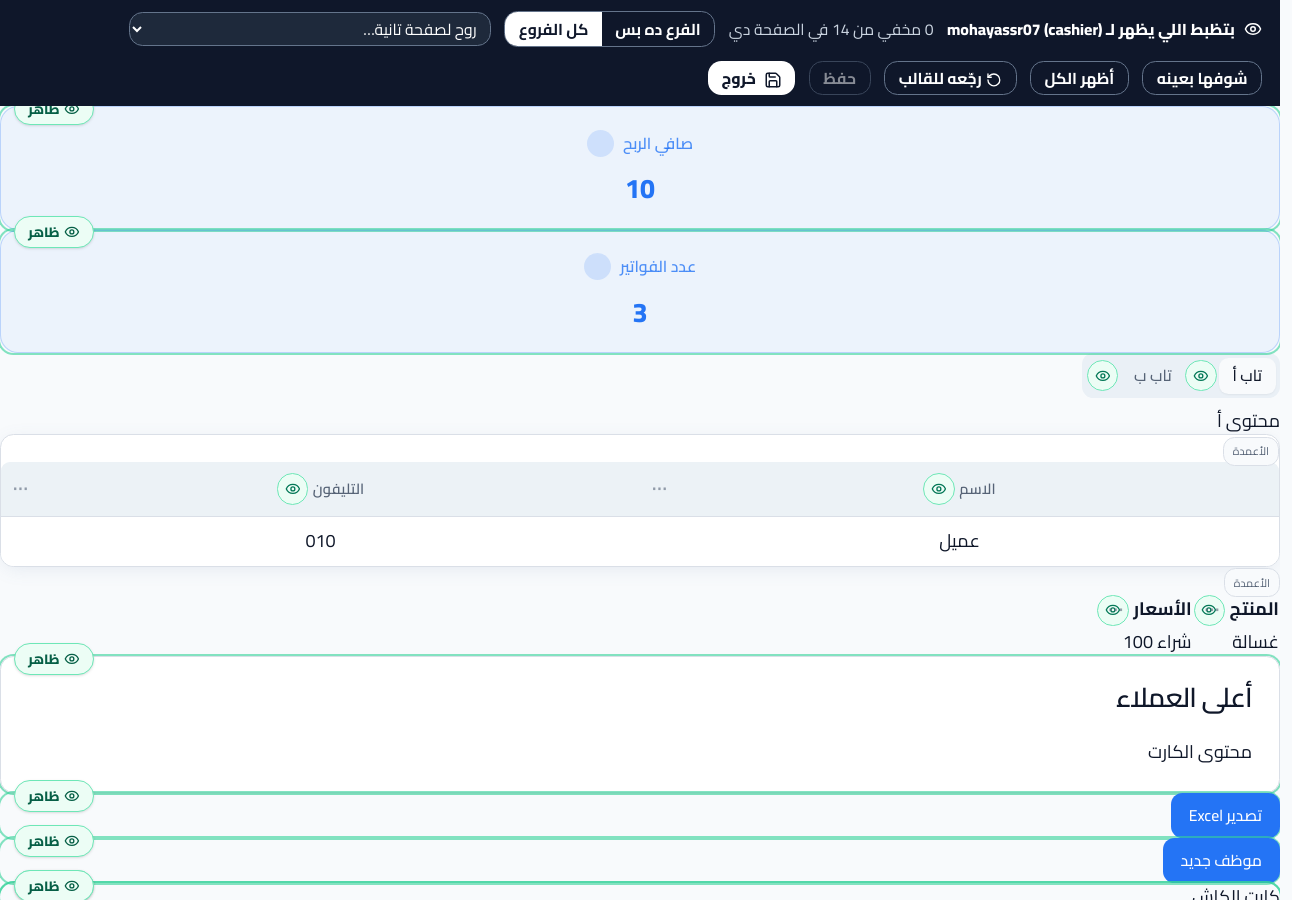
Test case: every card, tab and column tags itself on a catalogue page › in «افتح الصفحة وظبطها» each card, tab and column gets its own switch
Expected: the element named "شريط تظبيط الصفحة" is shown, [0,0,1280,106]
Expected: the button with aria-label "إخفاء كارت «صافي الربح» عن mohayassr07" is shown, [14,92,94,124]
What coordinates should you click on to do the following:
click the button named "إخفاء عمود التليفون عن mohayassr07"
I would click on:
 (292, 489)
Its box is [277,473,308,505].
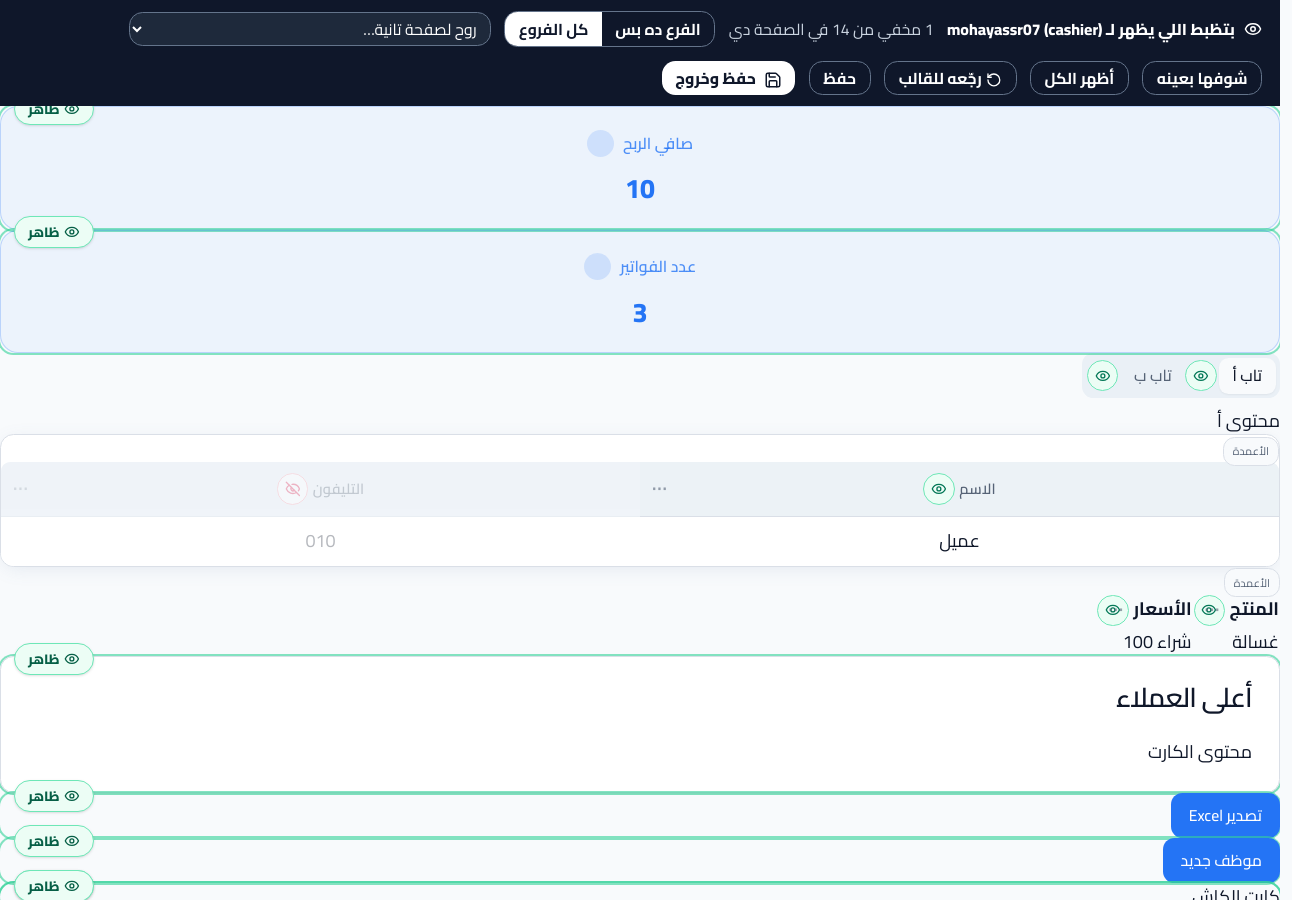
Expected: the button with aria-label "إخفاء زرار «تصدير Excel» عن mohayassr07" is shown, [14,780,94,812]
Now the button named "إظهار عمود التليفون عن mohayassr07" is shown, box [277,473,308,505]
Now the text "1 مخفي من 14 في الصفحة دي" is shown, box [729,18,933,40]
